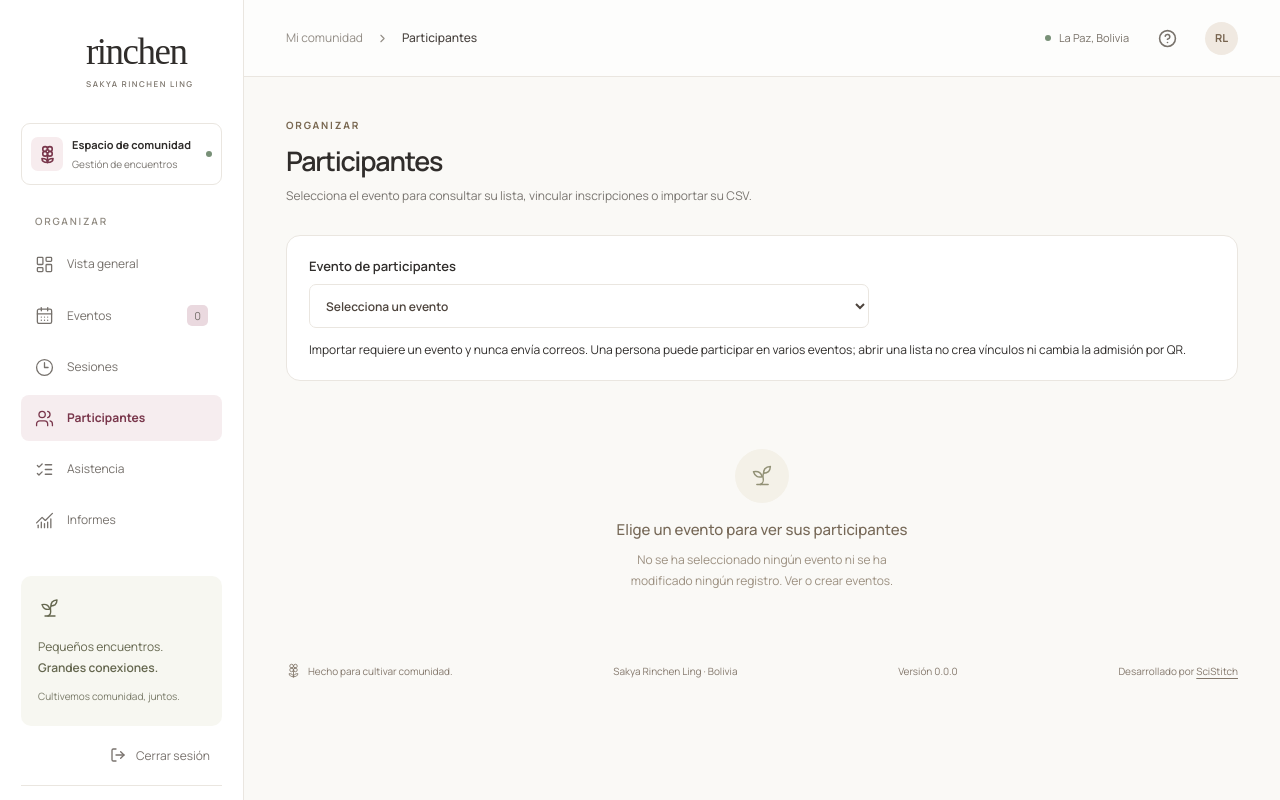
Test: opens the single participant directory from the sidebar and requires explicit event selection
Expected: the button "Importar CSV" is not shown
Select "El arte de estar presentes" in the dropdown labelled "Evento de participantes". click: [589, 306]
box: top-left (309, 284), bottom-right (869, 328)
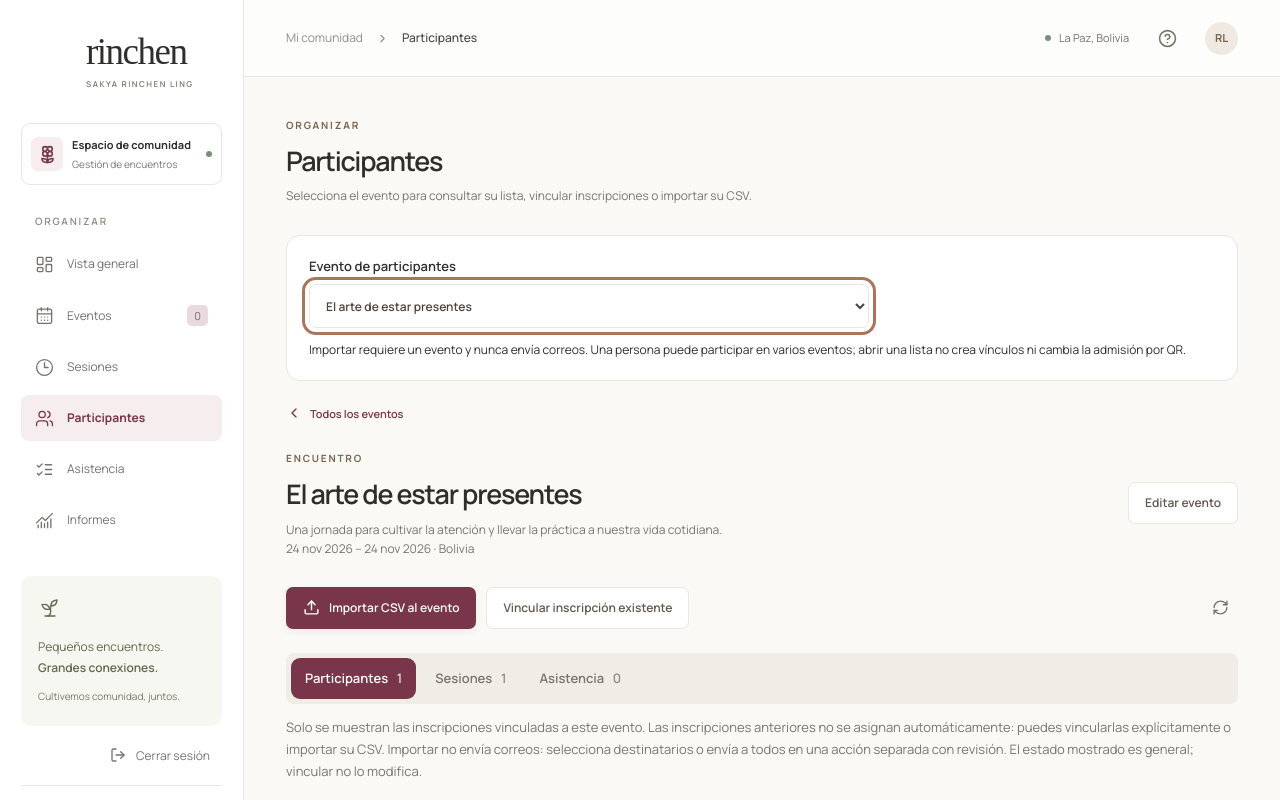
Click the button "Importar CSV al evento". click: [381, 608]
box: top-left (286, 587), bottom-right (476, 629)
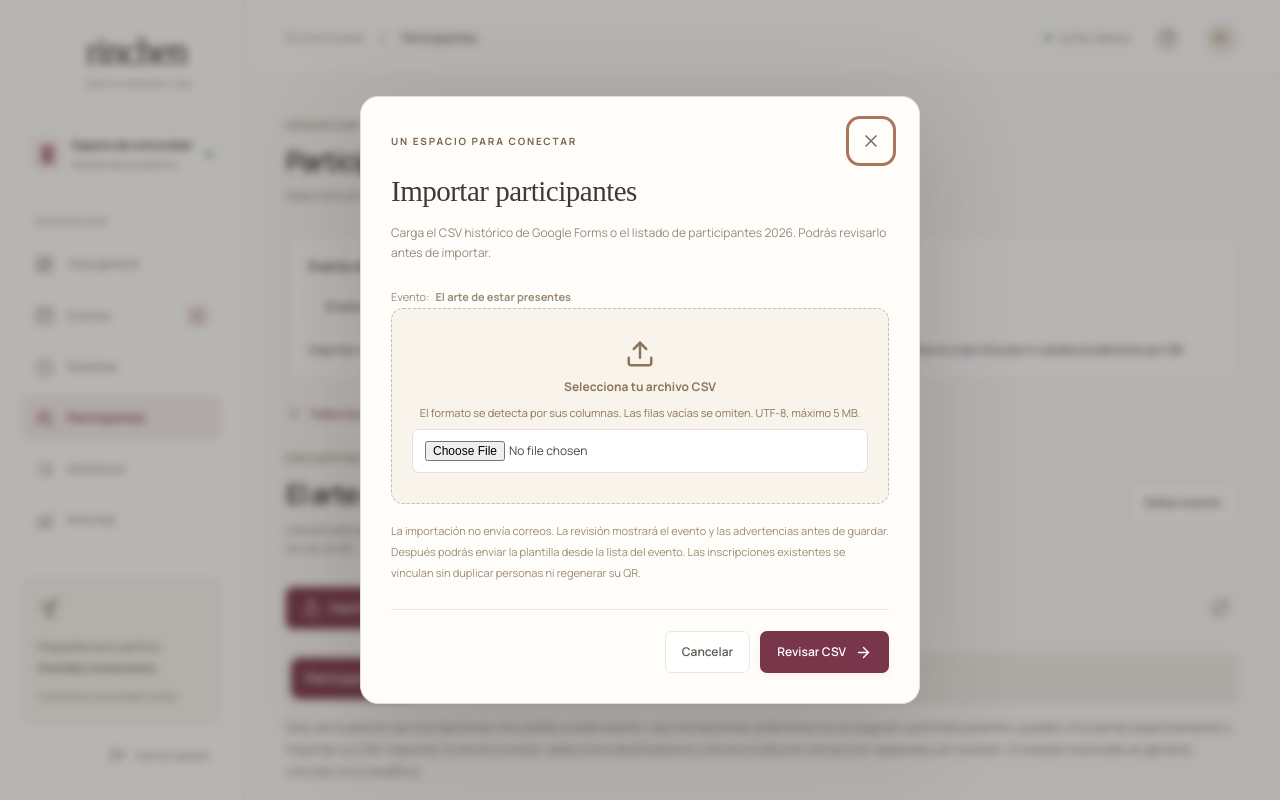
Result: the form named "event_id" holds "2" at top-left (391, 287), bottom-right (889, 673)
Result: the form named "csrf_token" holds "event-csrf" at top-left (391, 287), bottom-right (889, 673)
